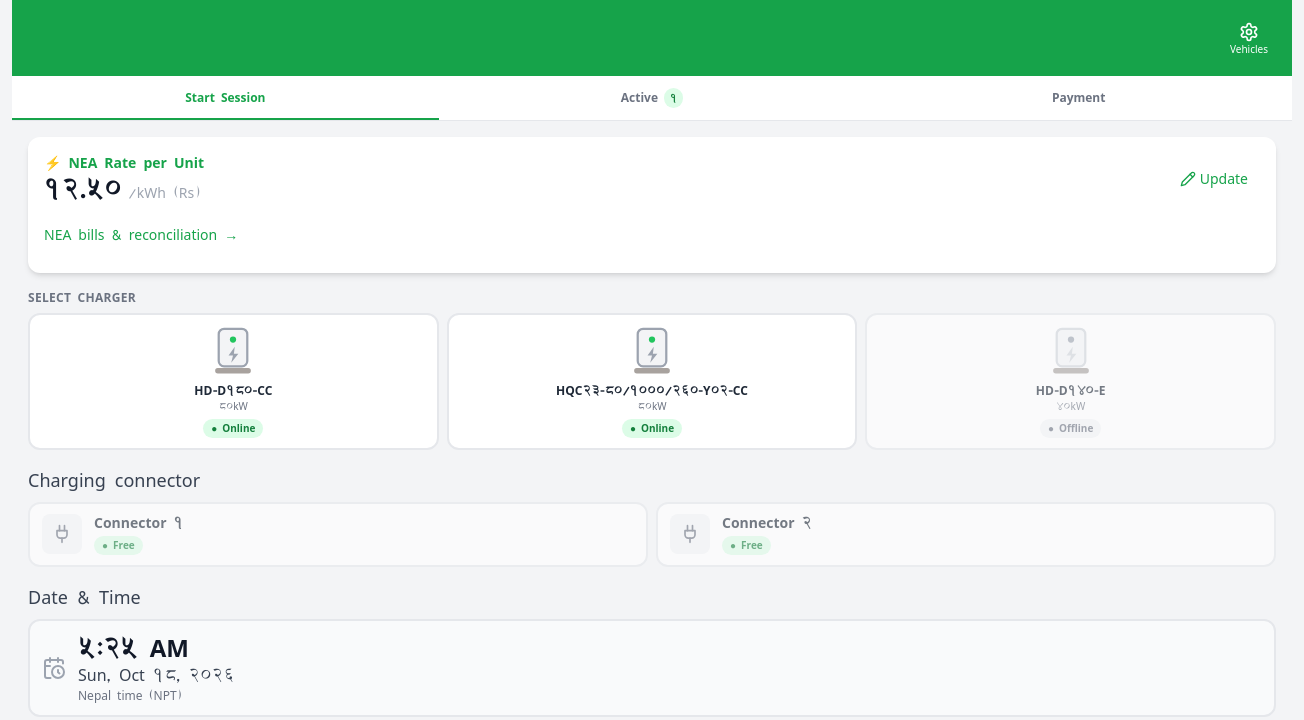
Test case: EVEntryPage › charger selection › selects the other connector when a charger already has an open session
This screenshot has width=1304, height=720.
Click the radio button labelled "HD-D180-CC 80kW ● Online" at [233, 381], box [28,313,439,450]
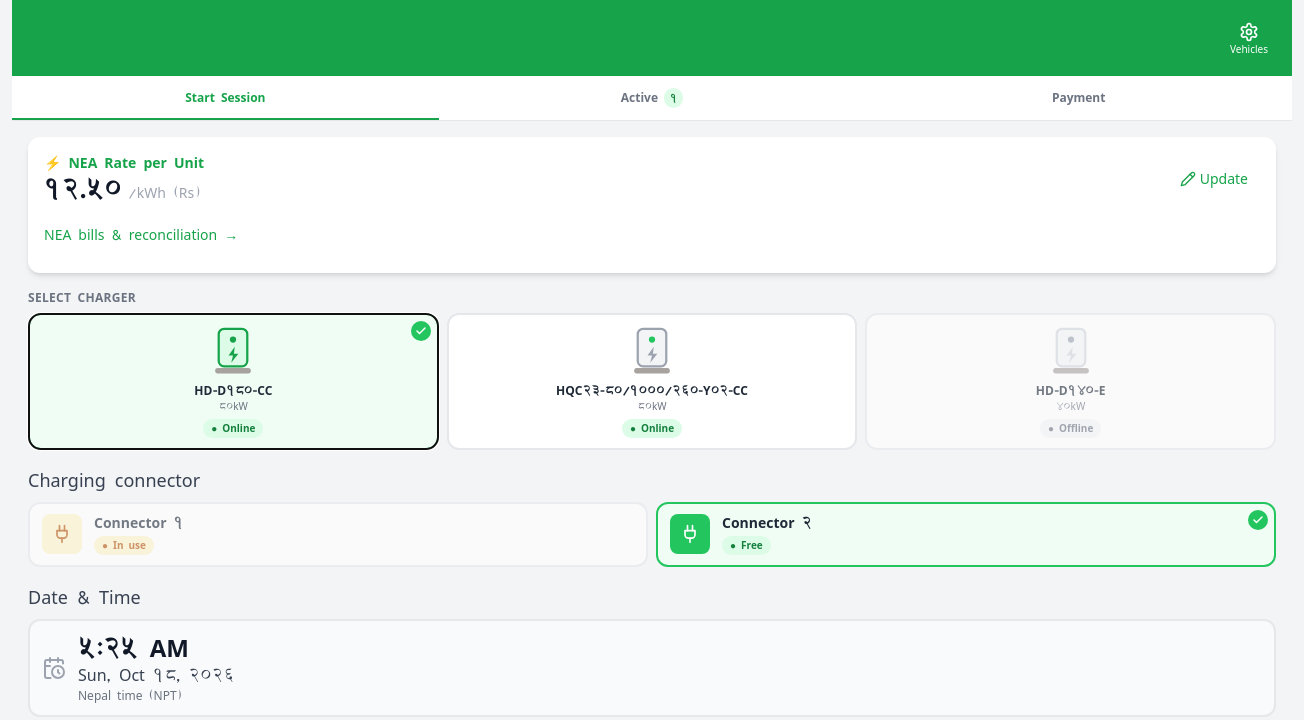
Expected: the radio button with aria-label "Connector 1, In use" is disabled, [28,502,648,567]
Now the radio button with aria-label "Connector 2, Free" is enabled, box [656,502,1276,567]
